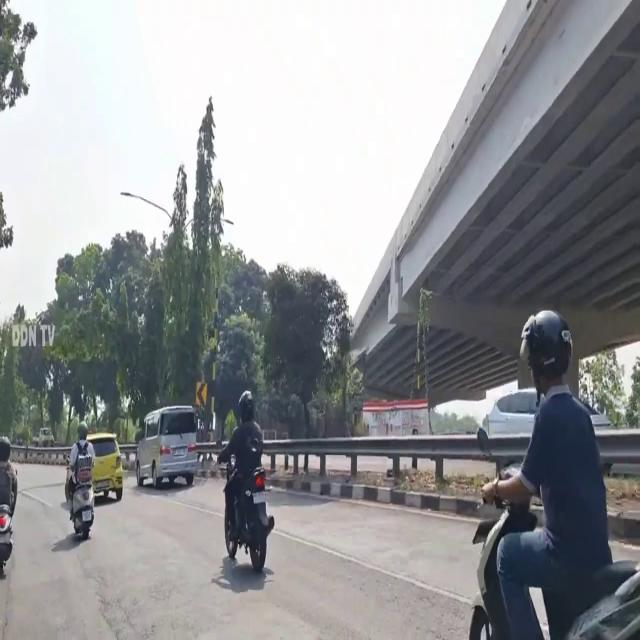WithHelmet: (480, 309, 614, 640), (218, 391, 264, 540), (69, 422, 96, 520), (1, 437, 19, 522)
